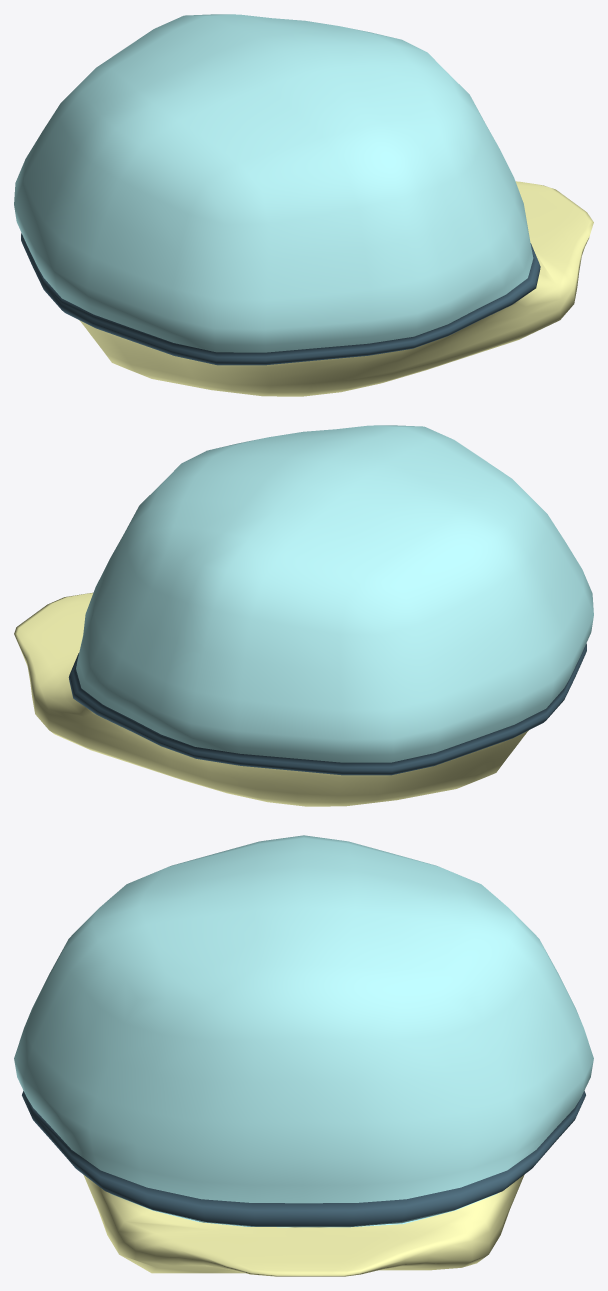
File: BaseTop.fbx
The picture shows the model from 3 angles, top to bottom: view 1: azimuth 30°, elevation 25°; view 2: azimuth 150°, elevation 25°; view 3: azimuth 270°, elevation 25°; orthographic projection. The views are drawn at different scales.
Parts seen in each view (by area): view 1: Base_Top; view 2: Base_Top; view 3: Base_Top.
Part boxes in pixels (left/top/right/bottom): Base_Top: left=14, top=14, right=593, bottom=396; Base_Top: left=14, top=425, right=593, bottom=806; Base_Top: left=14, top=835, right=593, bottom=1276.
Size of the model in its own units: 1986 by 1074 by 1786.
